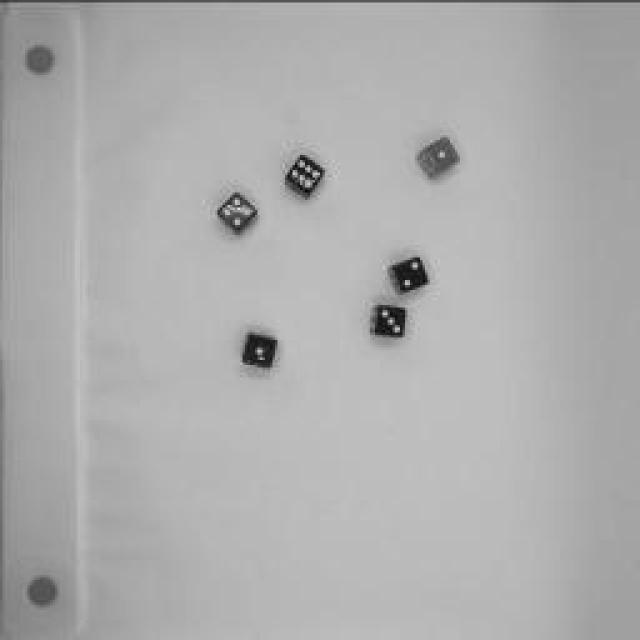dice_1: (409, 130, 466, 182), (230, 324, 285, 376)
dice_2: (385, 250, 435, 298)
dice_3: (364, 294, 416, 344)
dice_4: (212, 188, 262, 240)
dice_6: (280, 149, 330, 201)
